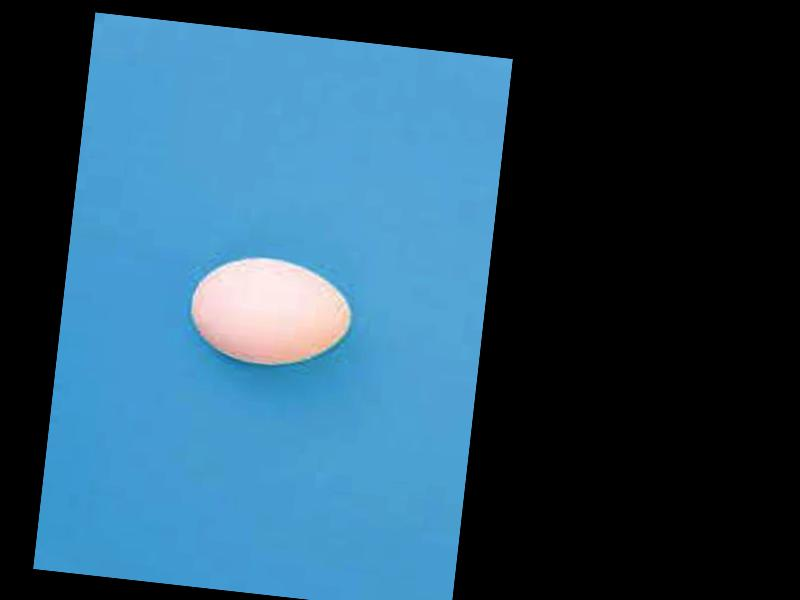Eggs: (185, 252, 359, 375)
